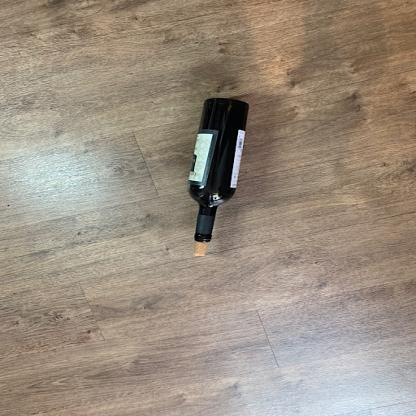trash: (186, 99, 254, 244)
